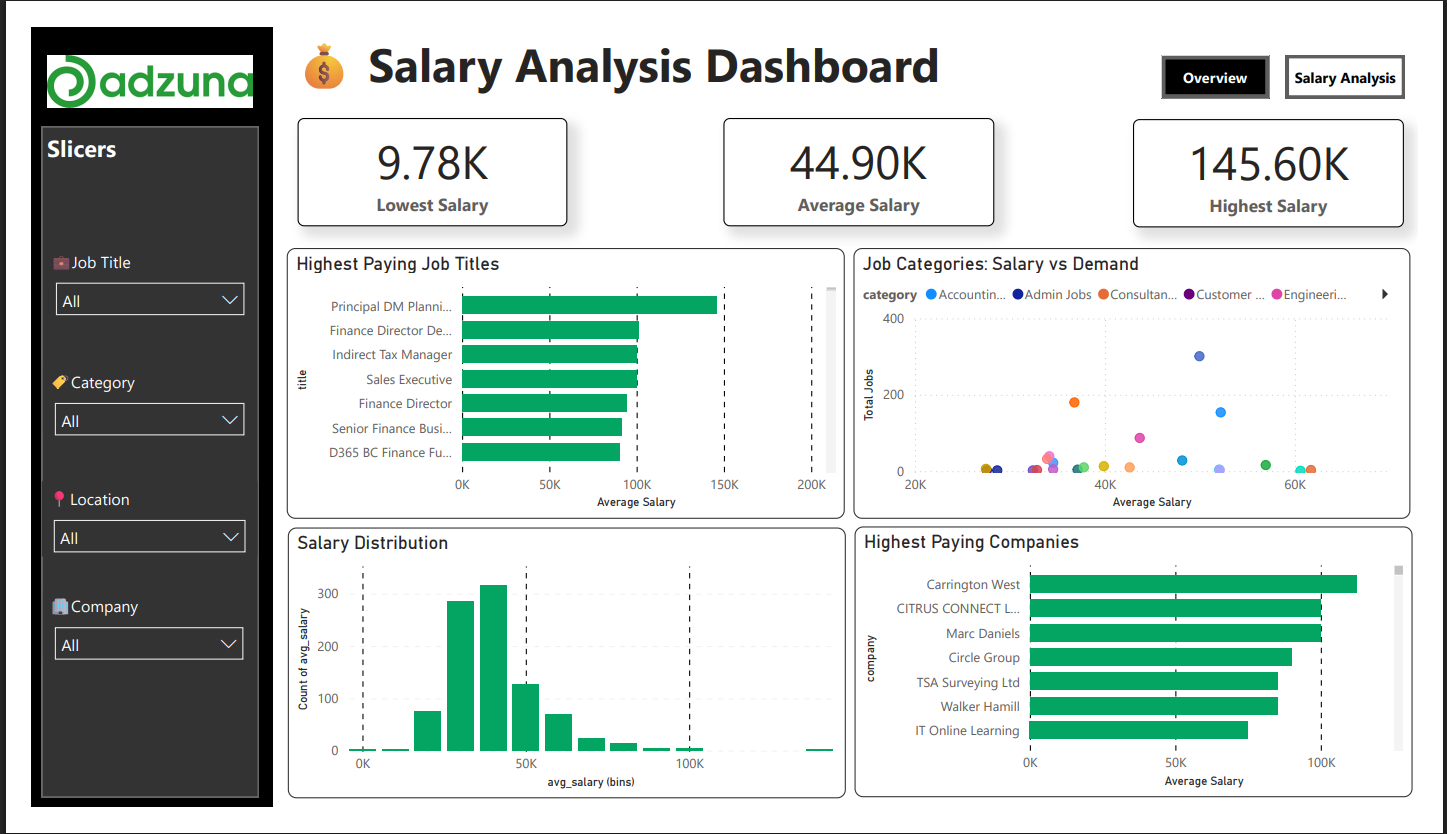

This screenshot's page, from the dashboard's own definition file:
{"tool":"powerbi","page":{"name":"Salary Analysis","canvas":[1280,720],"ordinal":1},"visuals":[{"type":"group","id":"g1","title":"Group 4","box":[0,0,222.3,720.4],"z":0},{"type":"shape","box":[0,0,223,720],"z":0,"group":"g3"},{"type":"card","fields":{"Values":["public jobs.Average Salary"]},"box":[639.5,83.7,249.7,100.2],"z":1000},{"type":"shape","box":[9.6,91.9,200.3,618.9],"z":1000,"group":"g3"},{"type":"group","id":"g2","title":"Group 3","box":[0,0,223,720],"z":1500,"group":"g1"},{"type":"group","id":"g3","title":"Group 2","box":[0,0,223,720],"z":1500,"group":"g2"},{"type":"group","id":"g4","title":"Group 1","box":[10.1,200.3,199,386.5],"z":1750,"group":"g2"},{"type":"card","fields":{"Values":["public jobs.Highest Salary"]},"box":[1016.8,85.1,249.7,100.2],"z":2000},{"type":"card","fields":{"Values":["public jobs.Lowest Salary"]},"box":[245.6,83.7,249.7,100.2],"z":3000},{"type":"clusteredBarChart","title":"Highest Paying Job Titles","fields":{"Category":["public jobs.title"],"Y":["public jobs.Average Salary"]},"box":[236,204.5,514.6,249.7],"z":4000},{"type":"scatterChart","title":"Job Categories: Salary vs Demand","fields":{"X":["public jobs.Average Salary"],"Y":["public jobs.Total Jobs"],"Series":["public jobs.category"]},"box":[758.8,204.5,514.6,249.7],"z":5000},{"type":"clusteredColumnChart","title":" Salary Distribution ","fields":{"Category":["public jobs.avg_salary (bins)"],"Y":["CountNonNull(public jobs.avg_salary)"]},"box":[237.4,462.4,514.6,249.7],"z":6000},{"type":"clusteredBarChart","title":"Highest Paying Companies","fields":{"Category":["public jobs.company"],"Y":["public jobs.Average Salary"]},"box":[760.2,461.1,514.6,249.7],"z":7000},{"type":"textbox","box":[236,0,974.3,70],"z":7001},{"type":"actionButton","box":[1042.9,26.1,100.2,39.8],"z":7002},{"type":"actionButton","box":[1158.2,26.1,109.8,39.8],"z":7003},{"type":"image","box":[9.6,0,199,100.2],"z":7004},{"type":"slicer","title":"📍Location","fields":{"Values":["public jobs.location"]},"box":[10.1,419.4,199,70],"z":9000,"group":"g4"},{"type":"slicer","title":"🏢Company","fields":{"Values":["public jobs.company"]},"box":[11.3,518.2,196.2,68.6],"z":10000,"group":"g4"},{"type":"slicer","title":"🏷️Category","fields":{"Values":["public jobs.category"]},"box":[11.5,311,196.2,68.6],"z":11000,"group":"g4"},{"type":"textbox","box":[9.6,91.9,104.3,56.3],"z":12000,"group":"g1"},{"type":"slicer","title":"💼Job Title","fields":{"Values":["public jobs.title"]},"box":[12.3,200.3,195.8,68.5],"z":12000,"group":"g4"}]}

Visuals, with their boxes in screenshot pixels (x1, y1, x2, y2), scaled from the page's 1280x720 canvas onto the 1447x834 screenshot:
"Group 4" group: 0, 0, 251, 833
shape: 0, 0, 252, 833
card - public jobs.Average Salary: 723, 97, 1005, 213
shape: 11, 106, 237, 823
"Group 3" group: 0, 0, 252, 833
"Group 2" group: 0, 0, 252, 833
"Group 1" group: 11, 232, 236, 680
card - public jobs.Highest Salary: 1149, 99, 1432, 215
card - public jobs.Lowest Salary: 278, 97, 560, 213
"Highest Paying Job Titles" clusteredBarChart: 267, 237, 849, 526
"Job Categories: Salary vs Demand" scatterChart: 858, 237, 1440, 526
" Salary Distribution " clusteredColumnChart: 268, 536, 850, 825
"Highest Paying Companies" clusteredBarChart: 859, 534, 1441, 823
textbox: 267, 0, 1368, 81
actionButton: 1179, 30, 1292, 76
actionButton: 1309, 30, 1433, 76
image: 11, 0, 236, 116
"📍Location" slicer: 11, 486, 236, 567
"🏢Company" slicer: 13, 600, 235, 680
"🏷️Category" slicer: 13, 360, 235, 440
textbox: 11, 106, 129, 172
"💼Job Title" slicer: 14, 232, 235, 311
